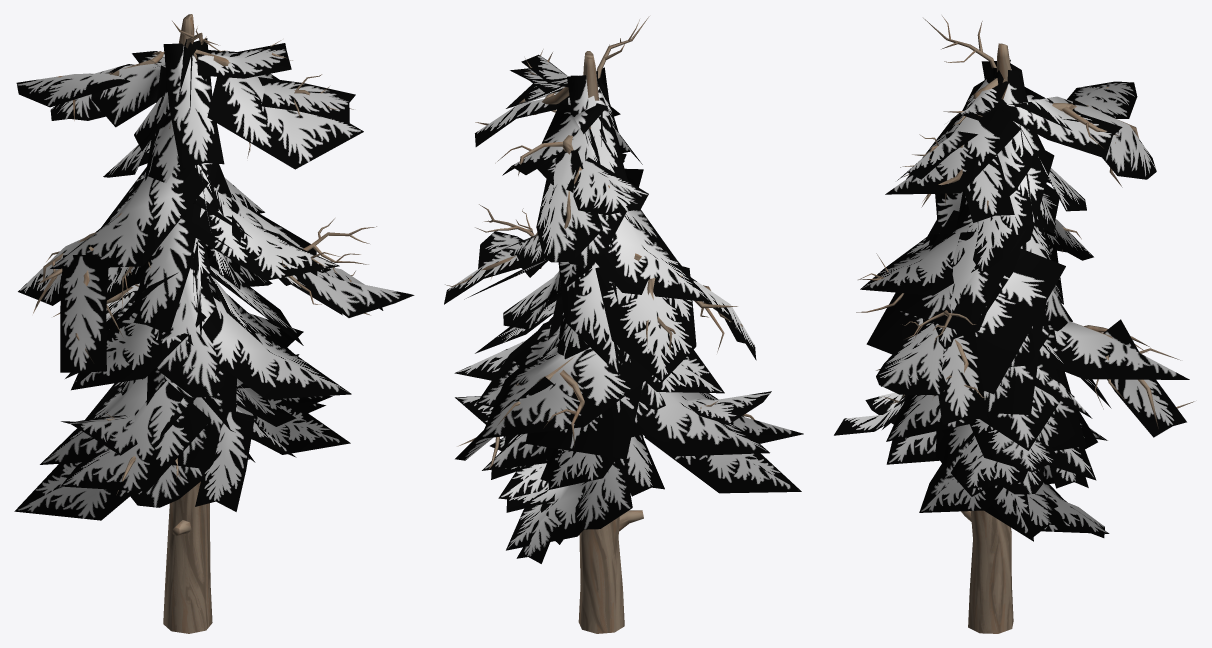
File: P_PineDead02_Snowy.obj
3 views of the same model, side by side, from view 1: azimuth 30°, elevation 25°; view 2: azimuth 150°, elevation 25°; view 3: azimuth 270°, elevation 25° (orthographic). The views are drawn at different scales.
Size of the model in its own units: 7.6 by 12.27 by 6.71.
